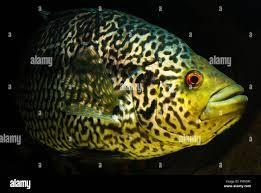Jaguar Gapote: (11, 7, 249, 170)
